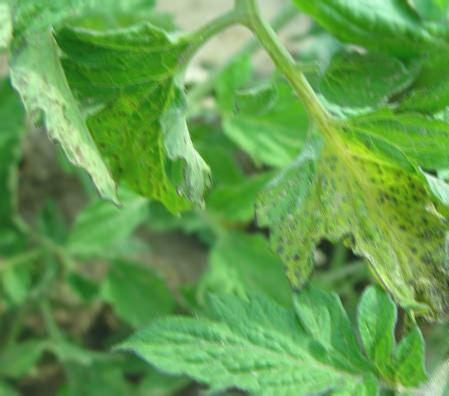Tomato leaf bacterial spot: (10, 0, 228, 251), (253, 89, 449, 333), (112, 268, 445, 396)
